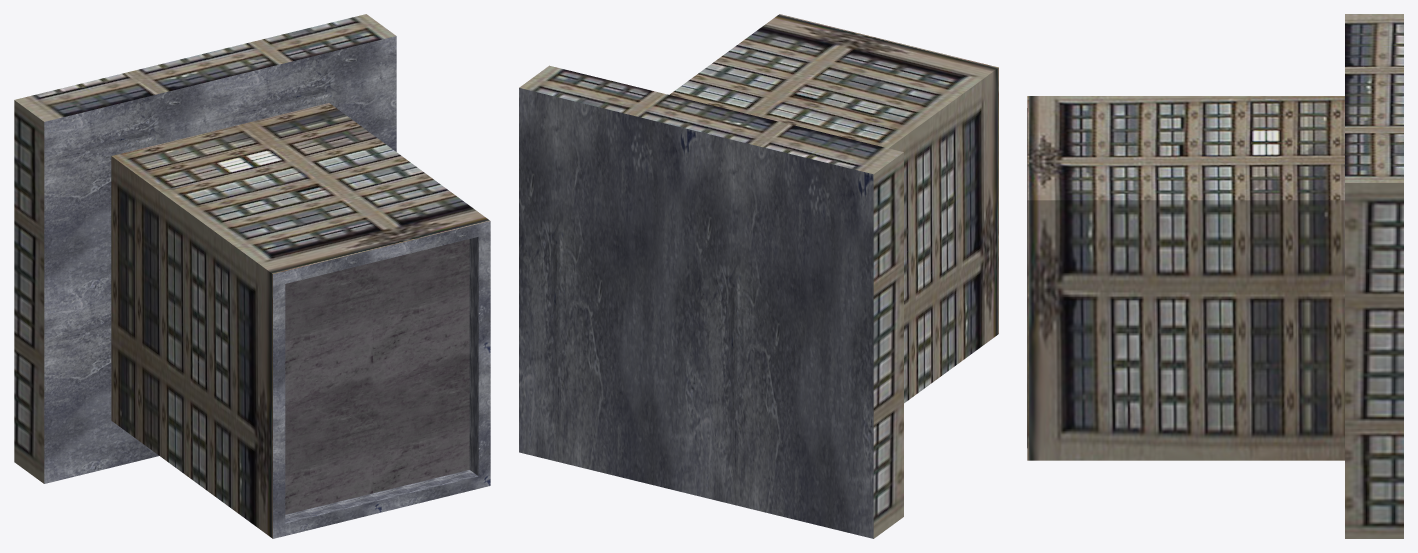
File: urbanflats1Ba_wtf.obj
3 views of the same model, side by side, from view 1: azimuth 30°, elevation 25°; view 2: azimuth 150°, elevation 25°; view 3: azimuth 270°, elevation 25° (orthographic). The views are drawn at different scales.
Parts seen in each view (by area): view 1: group5, group3, group4; view 2: group3, group5; view 3: group5.
Boxes of the visible parts, x1,y1,x2,y2 form: group5: (14,14,490,538); group3: (44,36,490,538); group4: (285,239,469,514); group3: (519,88,873,538); group5: (519,14,998,538); group5: (1027,14,1403,538).
Size of the model in its own units: 660 by 648 by 622.
